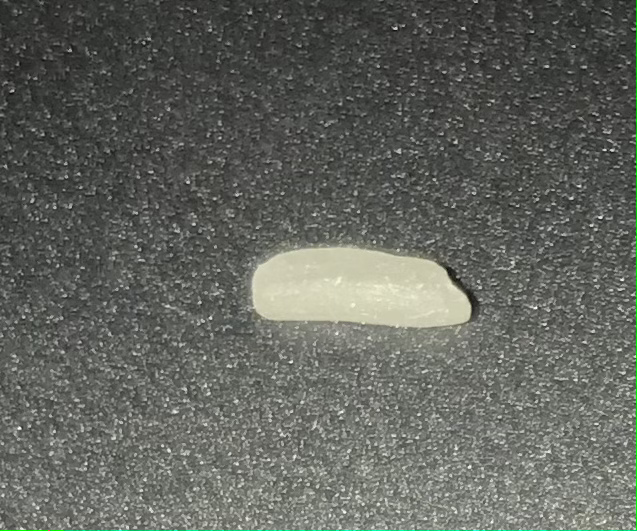Gao Tam Thom: (252, 226, 477, 343)
